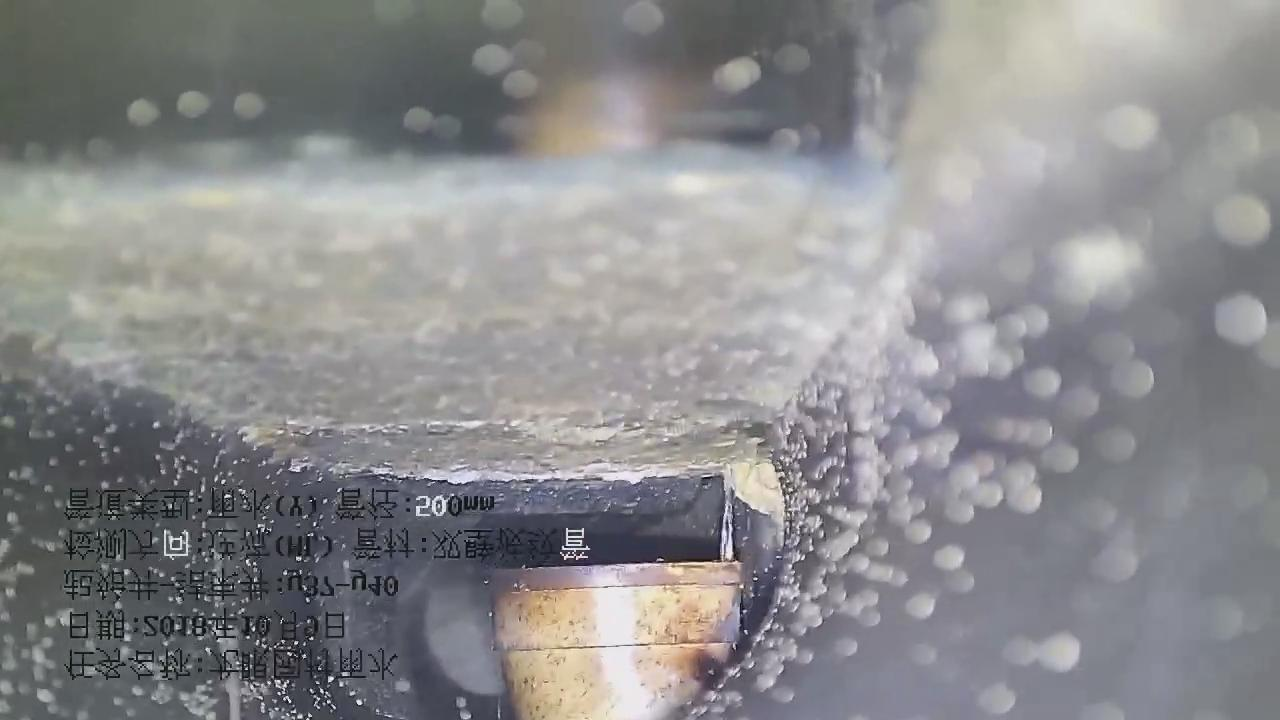ZGAJ: (490, 562, 747, 719)
